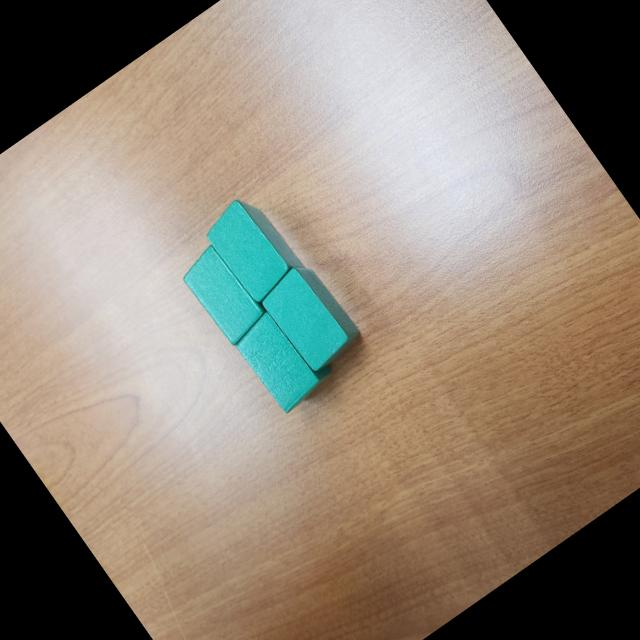green: (252, 255, 367, 378), (228, 298, 338, 416), (198, 188, 306, 306), (174, 236, 274, 348)
